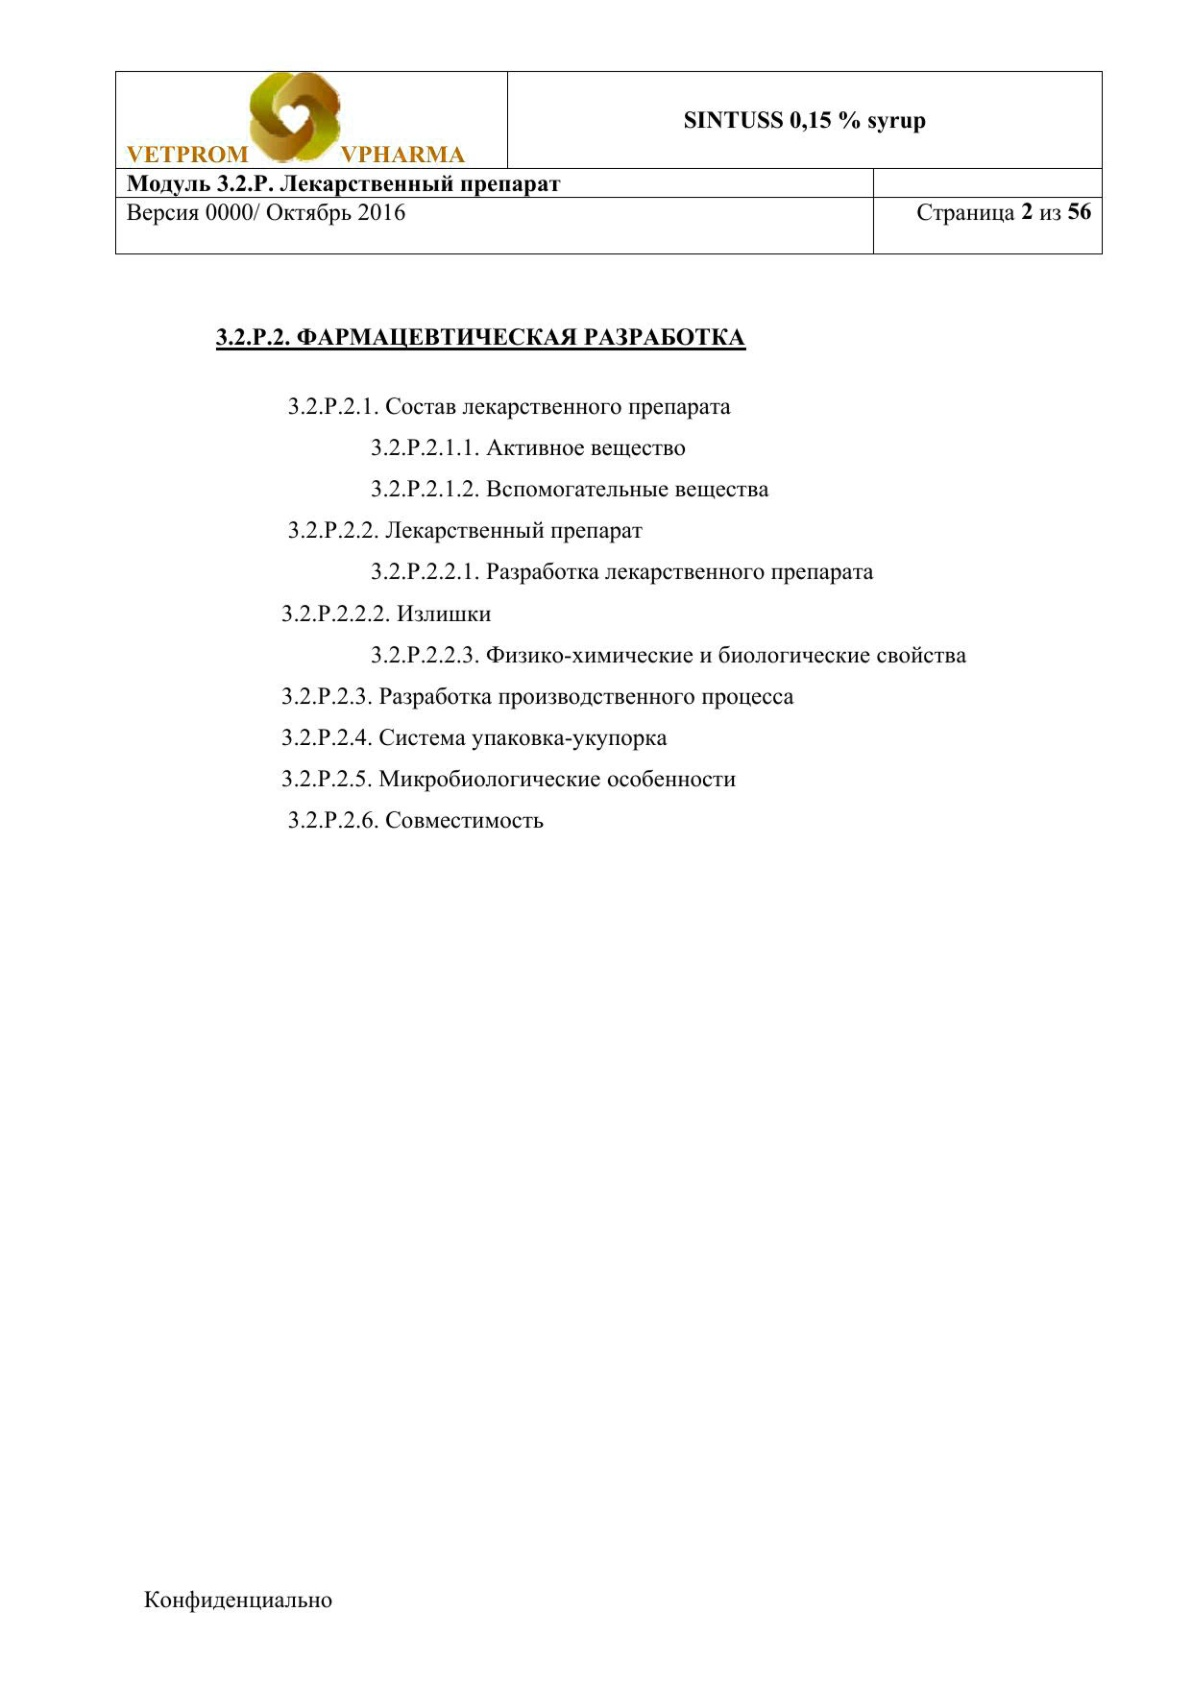merged_cells: (114, 70, 1106, 255)
